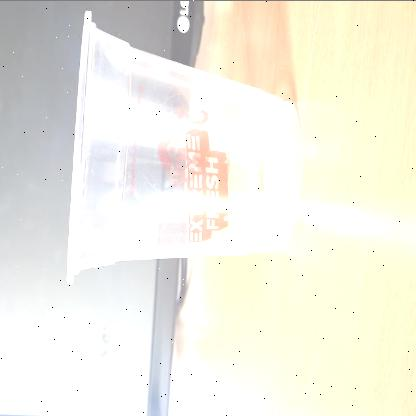Others: (62, 10, 304, 286)
